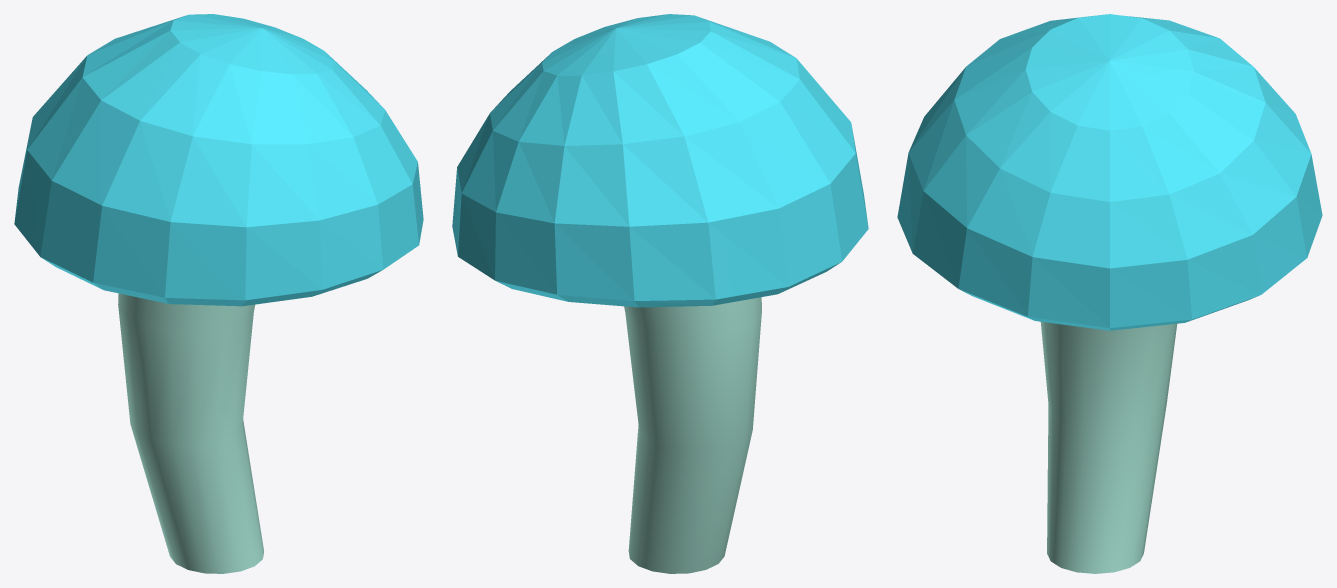
Rendered from champibleu.FBX.
The picture shows the model from 3 angles, left to right: view 1: azimuth 30°, elevation 25°; view 2: azimuth 150°, elevation 25°; view 3: azimuth 270°, elevation 25°; orthographic projection. The views are drawn at different scales.
Parts seen in each view (by area): view 1: Sphere001; view 2: Sphere001; view 3: Sphere001.
Part boxes in pixels (left/top/right/bottom): Sphere001: left=14, top=14, right=423, bottom=573; Sphere001: left=452, top=14, right=868, bottom=573; Sphere001: left=897, top=14, right=1322, bottom=573.
Bounding box in the file's own units: 46.44 × 63.99 × 47.01.
